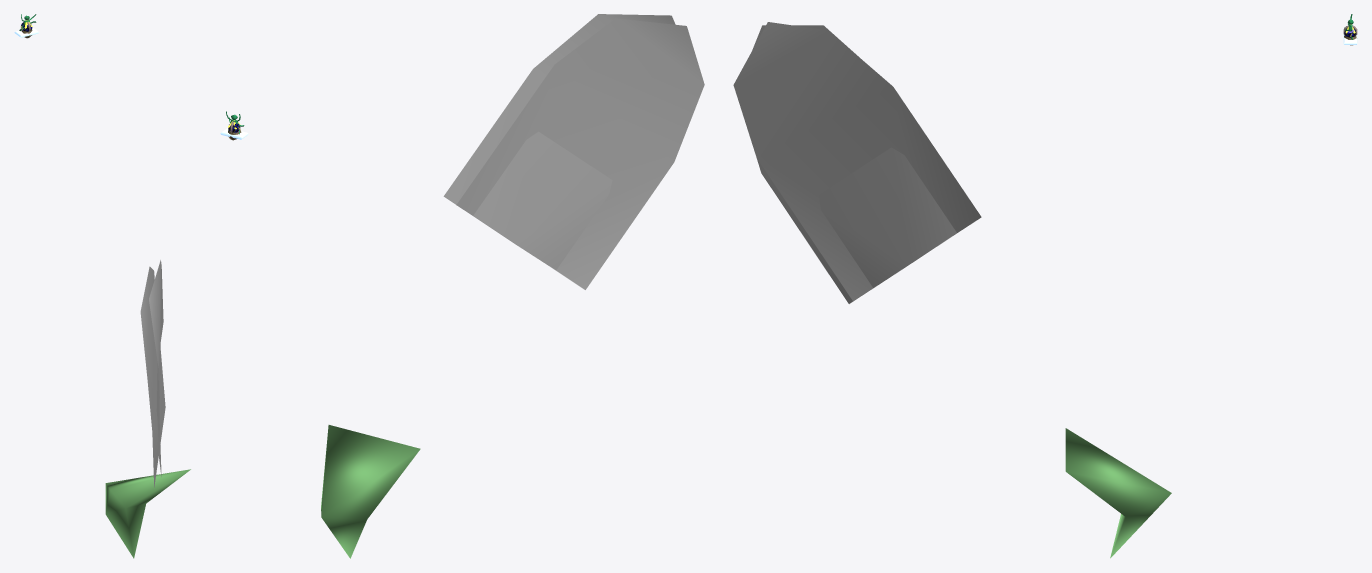
The model's file is ReptonReturnsFbx.fbx.
The picture shows the model from 3 angles, left to right: view 1: azimuth 30°, elevation 25°; view 2: azimuth 150°, elevation 25°; view 3: azimuth 270°, elevation 25°; orthographic projection. The views are drawn at different scales.
Visible parts, largest first — view 1: Hand, Line03, Line01; view 2: Line03, Line01, Hand; view 3: Line01, Line03, Hand.
Part boxes in pixels (bbox=[...]): Hand: bbox=[105, 469, 190, 558]; Line03: bbox=[140, 266, 165, 487]; Line01: bbox=[149, 260, 163, 476]; Line03: bbox=[456, 18, 704, 289]; Line01: bbox=[443, 14, 675, 270]; Hand: bbox=[321, 425, 420, 558]; Line01: bbox=[733, 22, 981, 301]; Line03: bbox=[752, 25, 956, 303]; Hand: bbox=[1065, 428, 1171, 558].
Bounding box in the file's own units: 3772 × 9041 × 9455.
